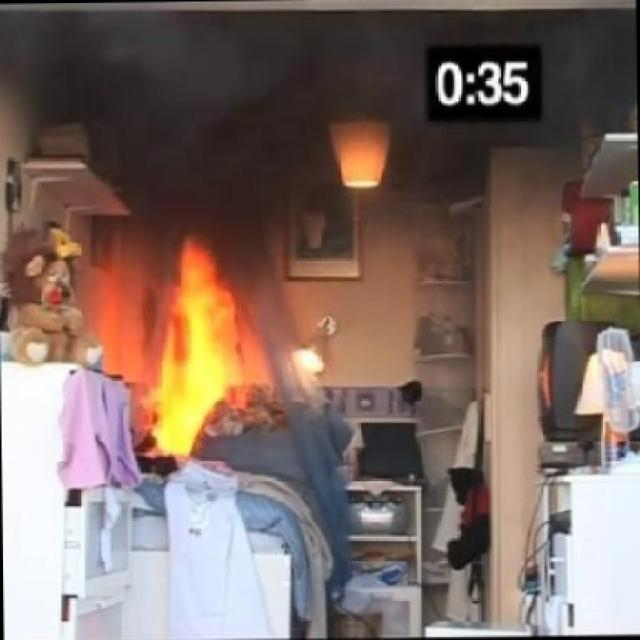fire: (96, 232, 264, 454)
